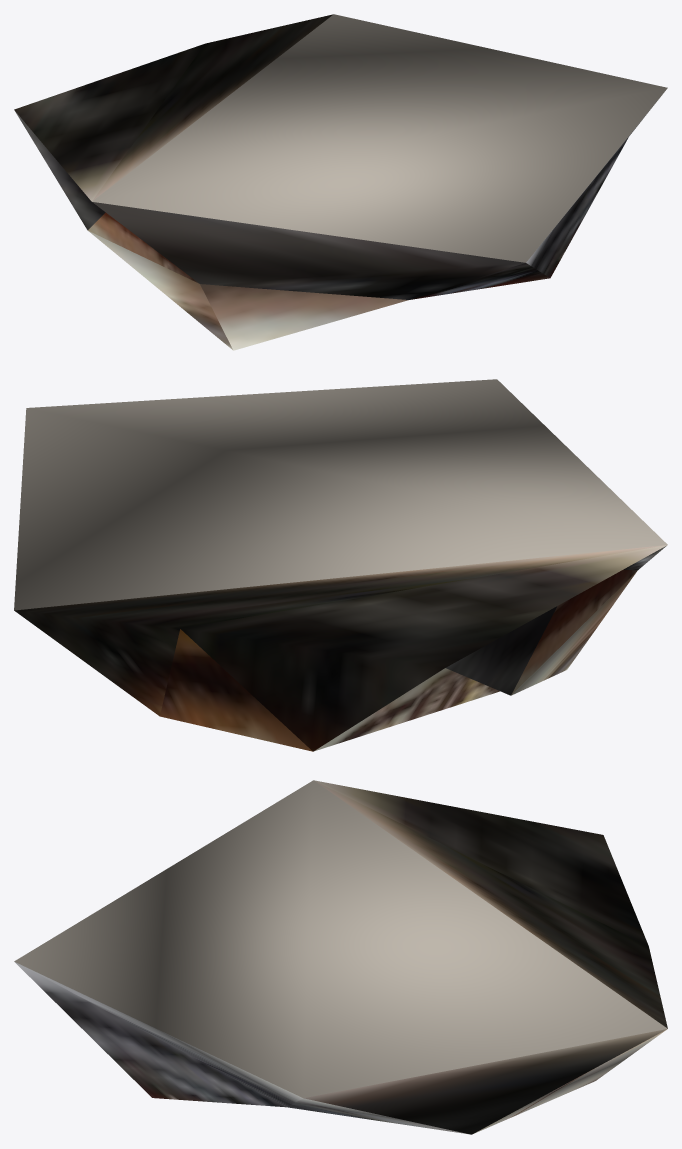
Rendered from cake_30.obj.
3 views of the same model, one above another, from view 1: azimuth 30°, elevation 25°; view 2: azimuth 150°, elevation 25°; view 3: azimuth 270°, elevation 25° (orthographic). The views are drawn at different scales.
Bounding box in the file's own units: 0.1673 × 0.0442 × 0.1569.
1 material, 1 textured.
